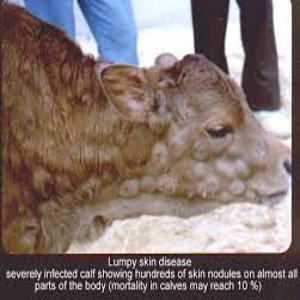lumpy skin diesease: (0, 0, 291, 254)
